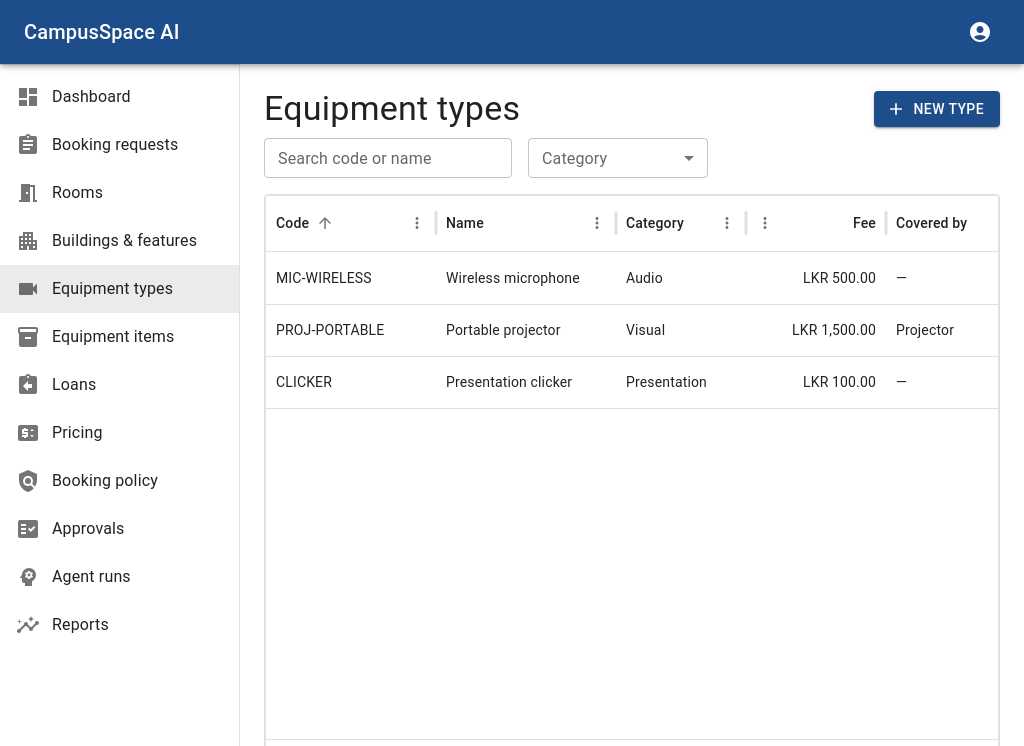
Test: EquipmentTypeFormDialog › shows a duplicate code under the code field
Click the button "New type". click: (937, 109)
box: left=874, top=91, right=1000, bottom=127
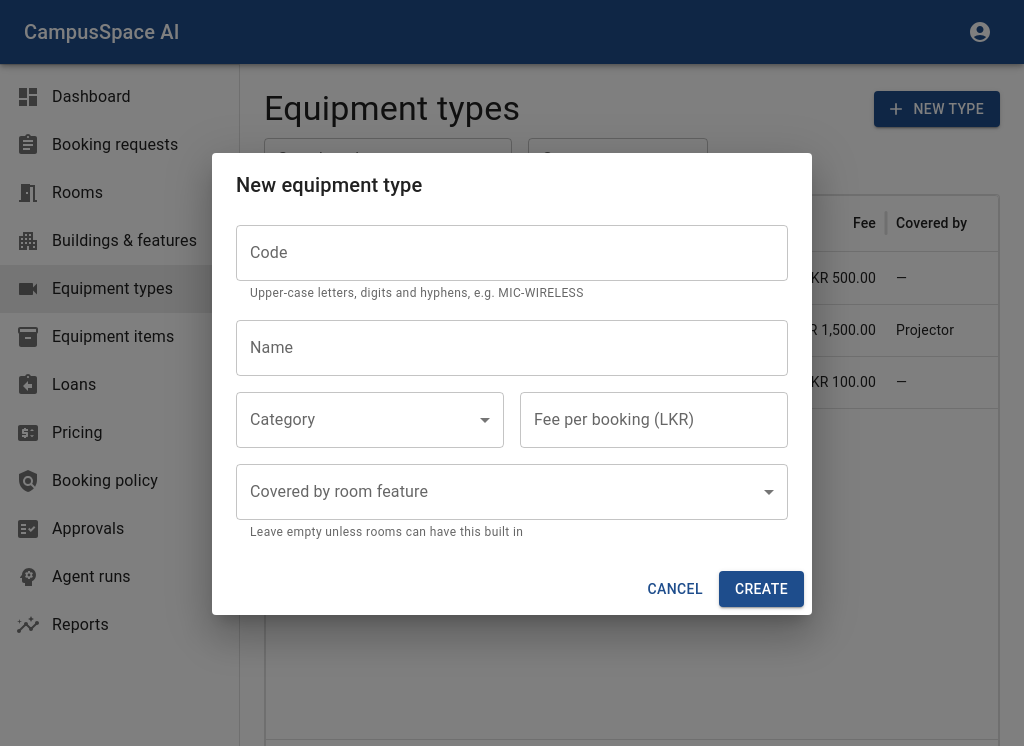
Type "mic-wireless" into the field labelled "Code". click: (512, 253)
box: left=236, top=225, right=788, bottom=281
Type "HDMI cable" into the field labelled "Name". click: (512, 348)
box: left=236, top=320, right=788, bottom=376
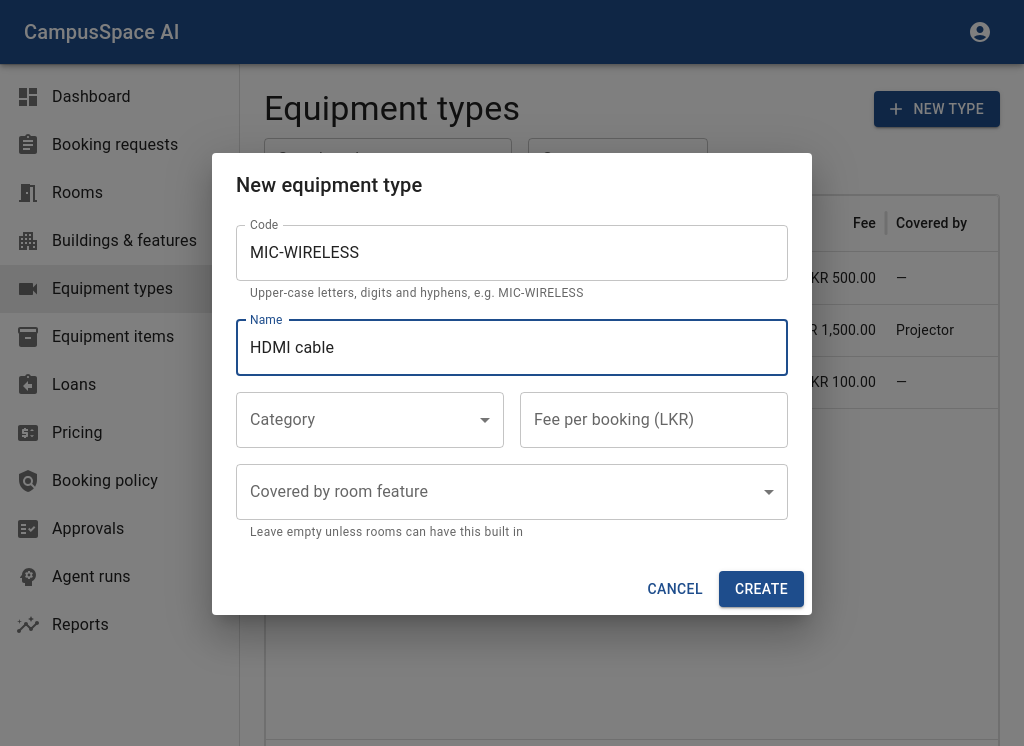
Click the dropdown named "Category" in the row of "Fee per booking (LKR)". click: (370, 420)
box: left=236, top=392, right=504, bottom=448
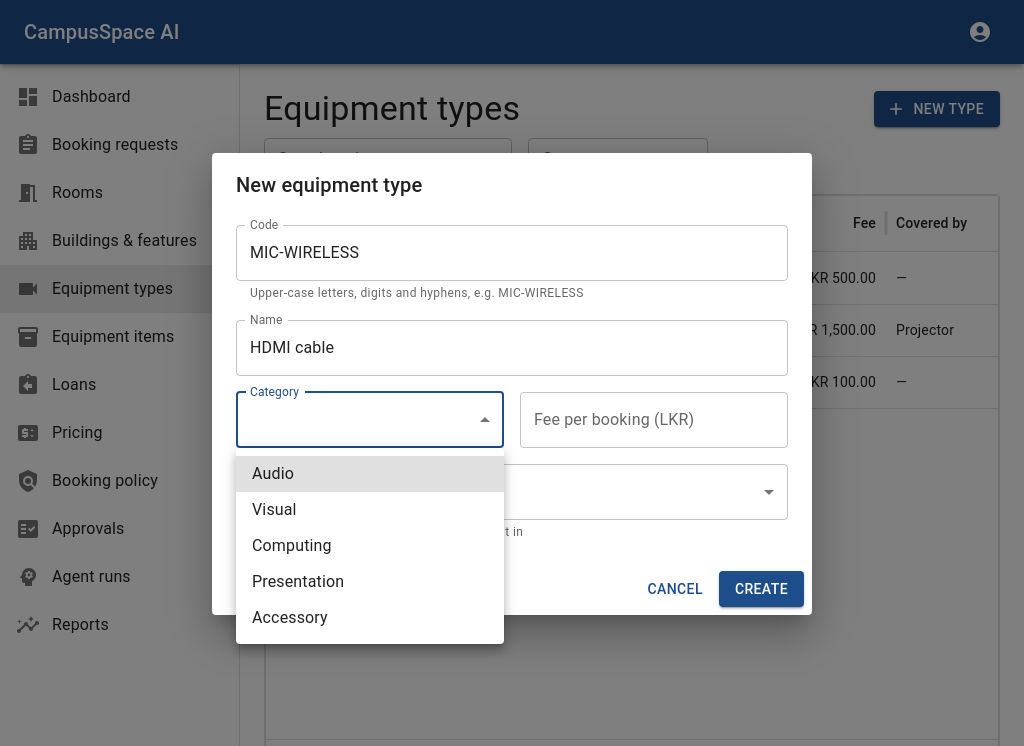
Click the option "Accessory". click: (290, 618)
box: left=252, top=608, right=328, bottom=627
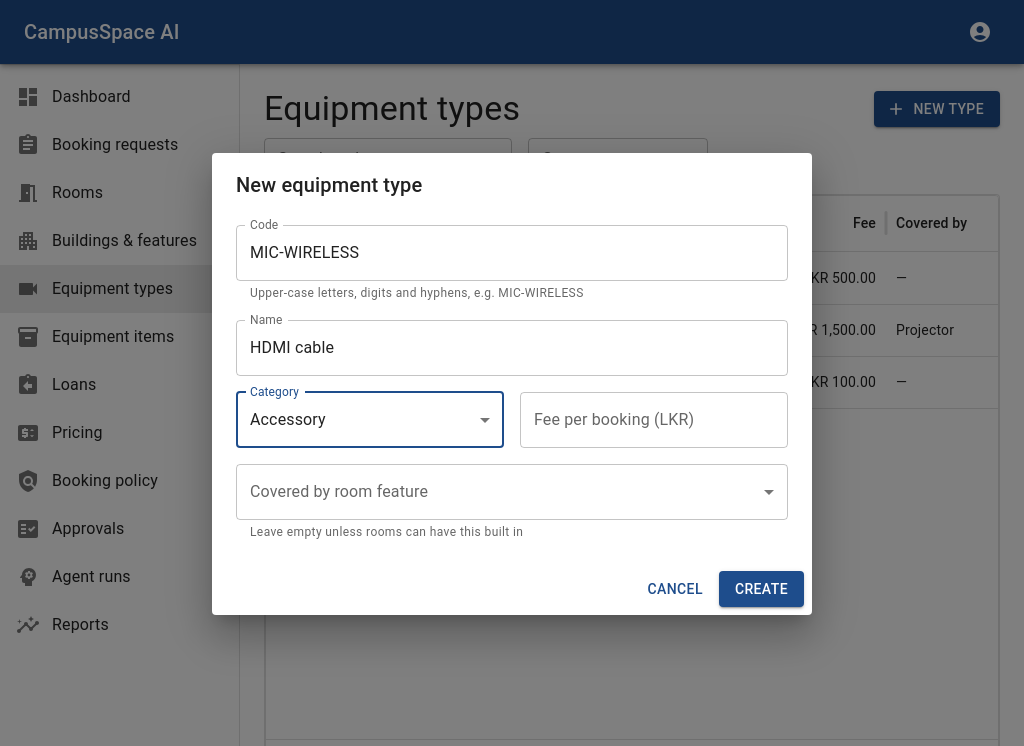
Type "50" into the field labelled "Fee per booking (LKR)". click: (654, 420)
box: left=520, top=392, right=788, bottom=448
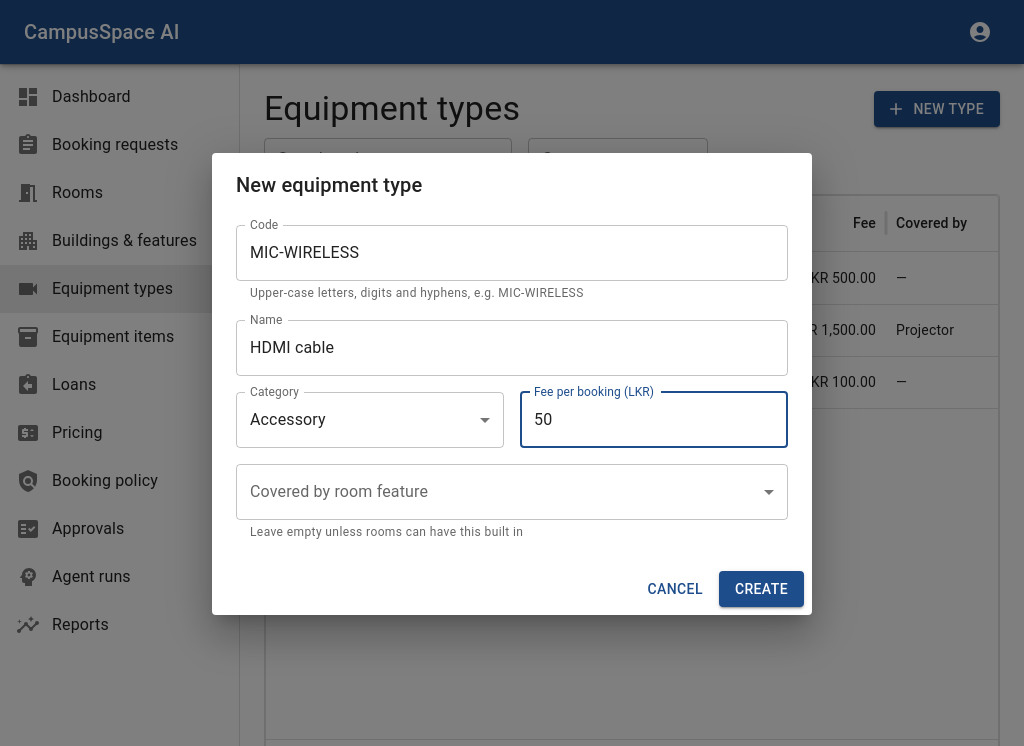
Click the button "Create". click: (761, 589)
box: left=719, top=571, right=804, bottom=607
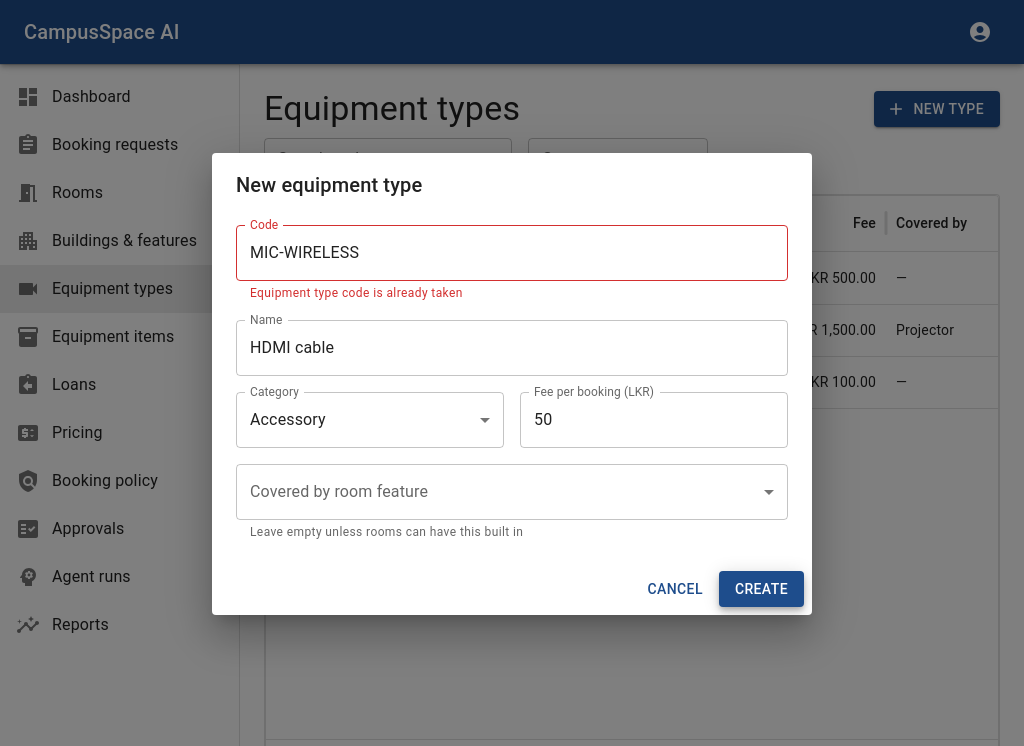
Expected: the text "Equipment type code is already taken" is shown, left=250, top=286, right=463, bottom=300
